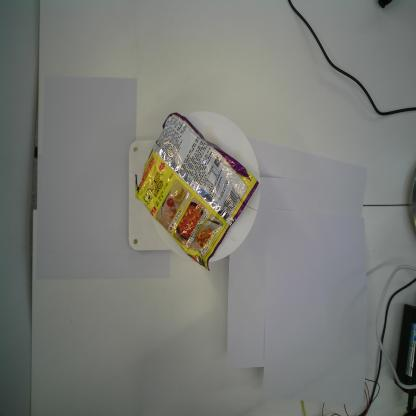Instant Noodles: (134, 111, 260, 273)
